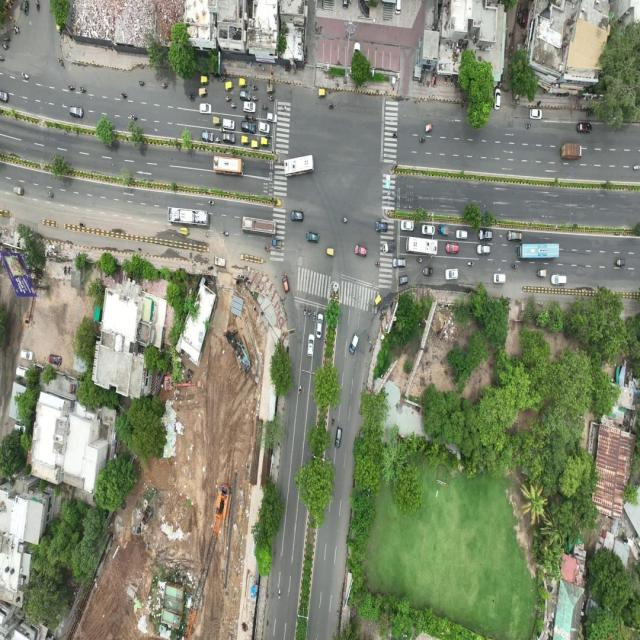3W: (372, 286, 385, 311), (259, 132, 273, 154), (239, 132, 254, 152), (197, 85, 212, 103), (221, 77, 236, 95), (250, 132, 262, 154), (534, 267, 548, 284), (18, 0, 31, 18), (324, 243, 336, 262), (264, 80, 278, 96), (238, 76, 252, 92), (211, 115, 224, 132), (180, 220, 190, 242), (612, 256, 627, 270), (316, 85, 329, 101), (200, 75, 212, 90)
Bus: (166, 204, 211, 230), (516, 241, 562, 263), (239, 215, 278, 239), (283, 153, 316, 181), (212, 153, 245, 178), (404, 235, 440, 257), (414, 251, 426, 268)
Cars: (236, 114, 259, 137), (396, 215, 416, 238), (240, 97, 259, 118), (348, 330, 360, 360), (279, 269, 292, 295), (315, 306, 324, 342), (304, 228, 321, 247), (219, 130, 238, 147), (255, 116, 271, 136), (506, 227, 523, 245), (549, 272, 567, 289), (443, 240, 461, 257), (237, 86, 253, 105), (221, 114, 237, 133), (220, 132, 239, 148), (289, 207, 305, 225), (352, 242, 368, 260), (14, 364, 32, 380), (492, 270, 508, 288), (306, 331, 316, 359), (333, 422, 343, 450), (68, 104, 85, 120), (576, 120, 593, 136), (476, 227, 493, 243), (444, 266, 461, 282), (391, 255, 407, 272), (492, 86, 502, 113), (454, 226, 469, 244), (520, 6, 530, 32), (201, 128, 217, 144), (420, 222, 436, 238), (373, 218, 389, 234), (198, 101, 213, 118), (19, 348, 34, 364), (528, 106, 543, 122), (476, 242, 492, 257), (351, 40, 363, 60), (266, 108, 279, 126), (395, 273, 410, 288), (48, 353, 63, 367), (12, 422, 27, 435), (0, 89, 9, 107), (393, 0, 402, 17), (341, 0, 351, 12)
LCV: (268, 234, 284, 254), (435, 223, 452, 239), (422, 119, 434, 138), (585, 104, 597, 123), (420, 265, 435, 278), (12, 184, 25, 198)
M2W: (64, 72, 78, 97), (326, 96, 339, 117), (373, 248, 383, 275), (308, 304, 318, 327), (266, 91, 278, 110), (304, 296, 313, 321), (220, 227, 233, 244), (76, 216, 88, 234), (78, 81, 90, 99), (0, 32, 15, 46), (631, 156, 640, 179), (301, 294, 309, 319), (56, 53, 66, 73), (206, 192, 217, 210), (0, 40, 14, 54), (260, 240, 273, 255), (200, 227, 213, 242), (417, 134, 429, 150), (279, 97, 289, 116), (260, 98, 271, 115), (249, 91, 261, 106), (248, 81, 260, 96), (32, 0, 42, 18), (19, 70, 32, 83), (137, 76, 149, 90), (508, 259, 520, 273), (12, 22, 21, 40), (188, 89, 198, 105), (217, 73, 229, 85), (221, 93, 234, 104), (340, 213, 350, 227), (159, 78, 169, 92), (329, 413, 337, 430), (524, 118, 533, 133), (128, 110, 139, 122), (465, 258, 476, 270), (251, 112, 260, 126), (390, 130, 400, 142), (119, 90, 129, 102), (243, 112, 252, 125), (46, 188, 55, 201), (433, 72, 439, 91), (0, 50, 7, 66), (449, 76, 457, 90), (186, 365, 196, 376), (215, 134, 224, 146), (442, 74, 449, 88), (276, 586, 282, 602), (184, 370, 193, 380), (231, 100, 238, 112), (296, 383, 302, 397), (185, 377, 193, 386)
Truck: (560, 140, 583, 162), (381, 238, 397, 256), (212, 253, 228, 270)
